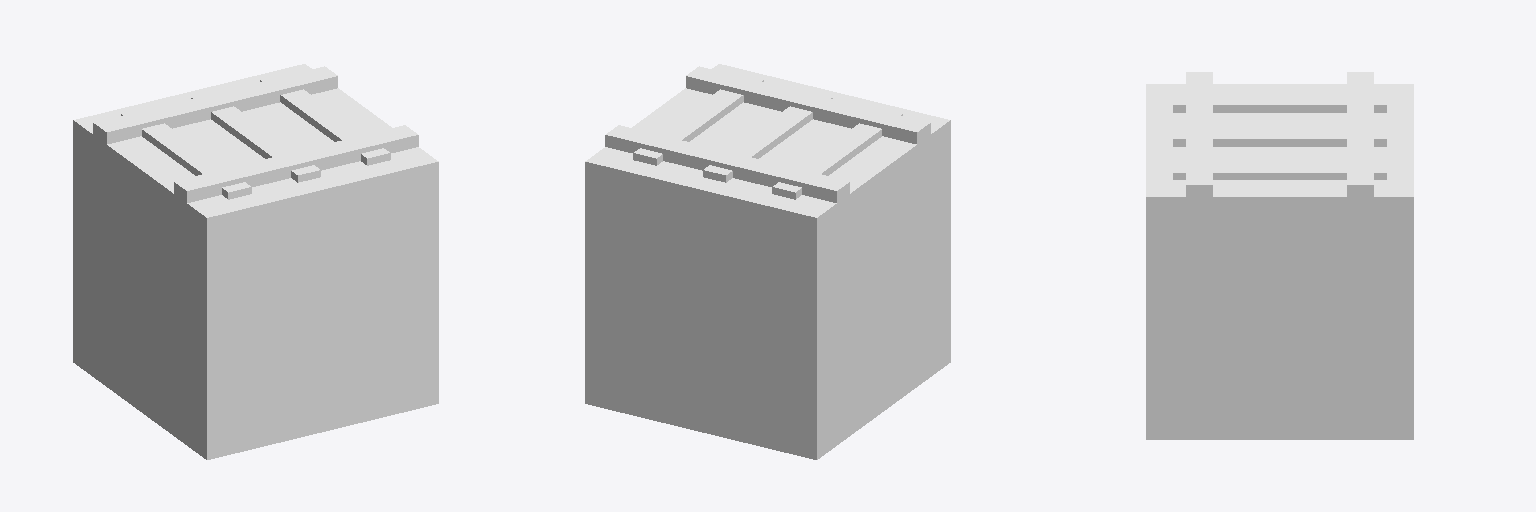
Rendered from Rail.obj.
3 views of the same model, side by side, from view 1: azimuth 30°, elevation 25°; view 2: azimuth 150°, elevation 25°; view 3: azimuth 270°, elevation 25° (orthographic).
Parts seen in each view (by area): view 1: Cube_Cube, Rail_Rail; view 2: Cube_Cube, Rail_Rail; view 3: Cube_Cube, Rail_Rail.
Boxes of the visible parts, x1,y1,x2,y2 form: Cube_Cube: [73, 64, 438, 459]; Rail_Rail: [93, 66, 418, 202]; Cube_Cube: [585, 64, 950, 459]; Rail_Rail: [605, 66, 930, 202]; Cube_Cube: [1146, 84, 1413, 439]; Rail_Rail: [1173, 72, 1386, 196].
Bounding box in the file's own units: 1 × 1.05 × 1.